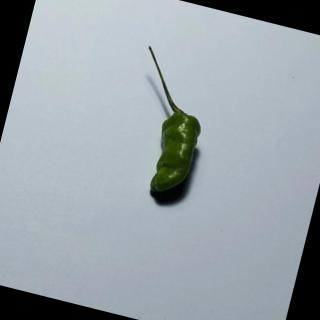Cabai Hijau: (108, 42, 225, 213)
